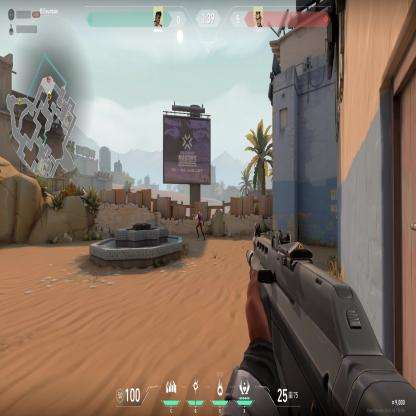enemy: (195, 209, 206, 242)
